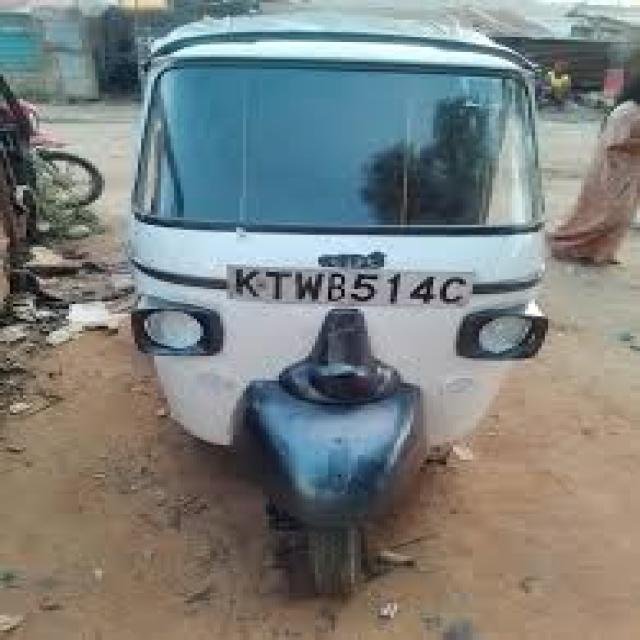tuktuk: (62, 0, 624, 623)
